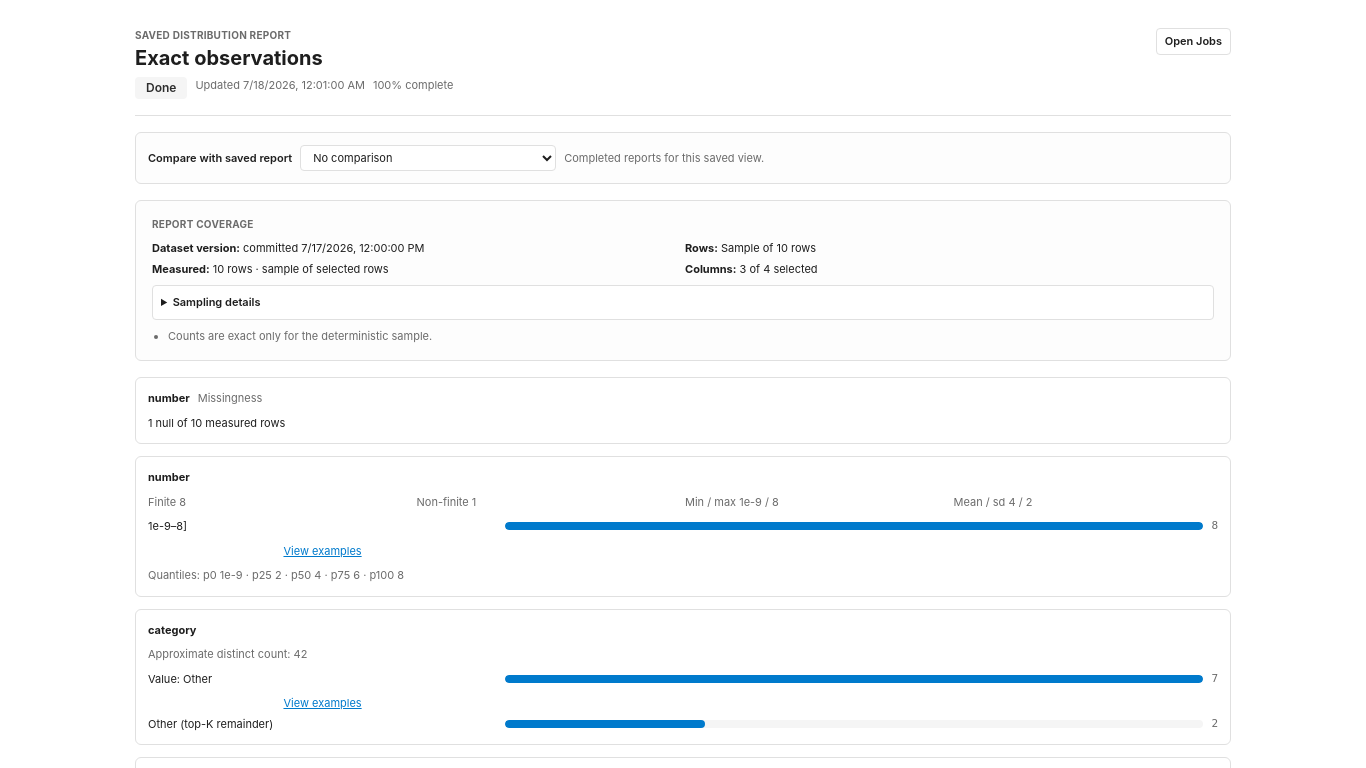
DistributionReportPage › puts report coverage before the distribution charts
The width and height of the screenshot is (1366, 768).
Check: the text "Report coverage" is shown, box [152, 218, 254, 230]
Check: the text "Measured: 10 rows · sample of selected rows" is shown, box [152, 262, 389, 276]
Click the heading "Sampling details": (216, 302) [173, 295, 260, 309]
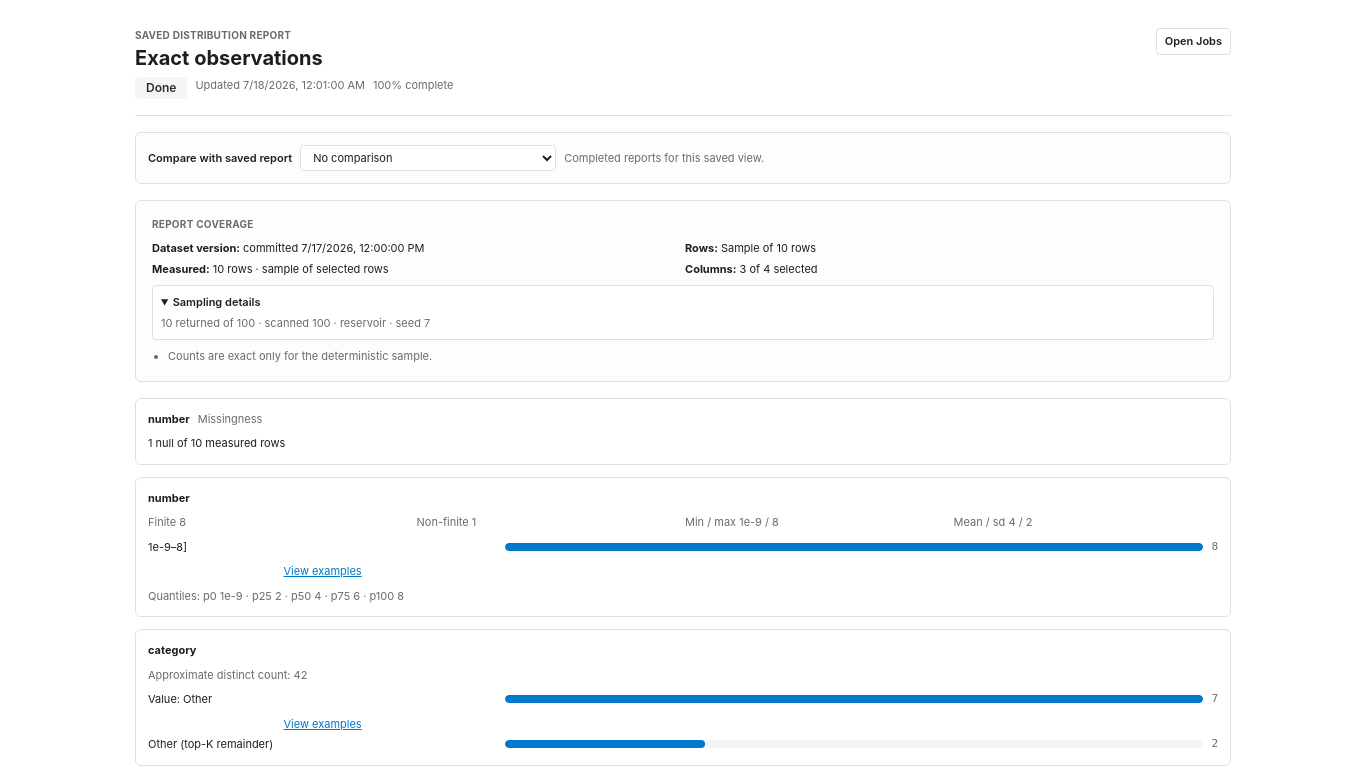
Check: the text "Min / max 1e-9 / 8" is shown, box [685, 515, 779, 529]
Check: the text "10 returned of 100 · scanned 100 · reservoir · seed 7" is shown, box [161, 316, 430, 330]
